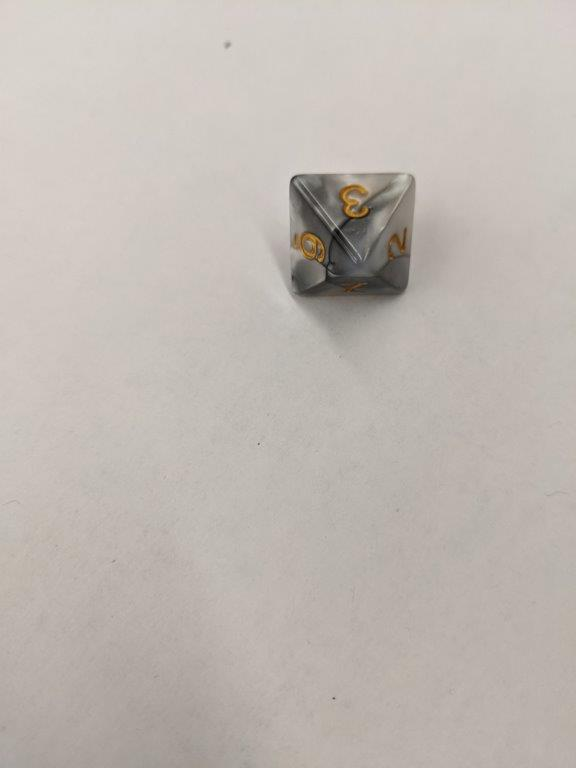d8-3: (289, 173, 416, 298)
